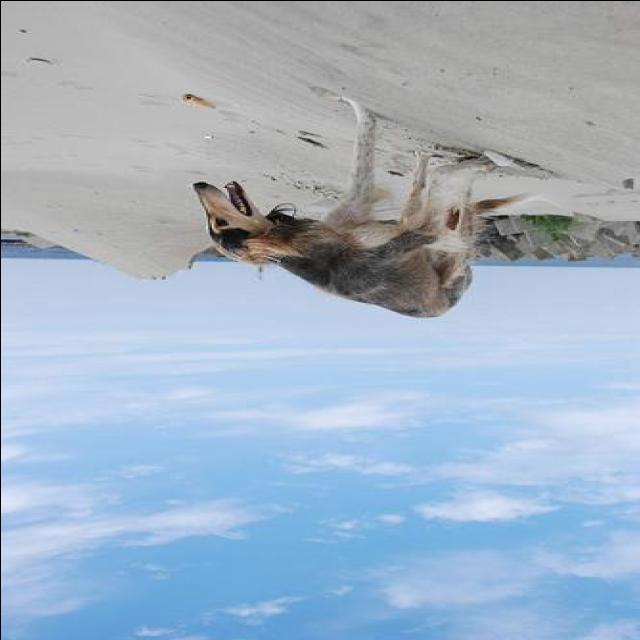saluki: (192, 101, 528, 320)
